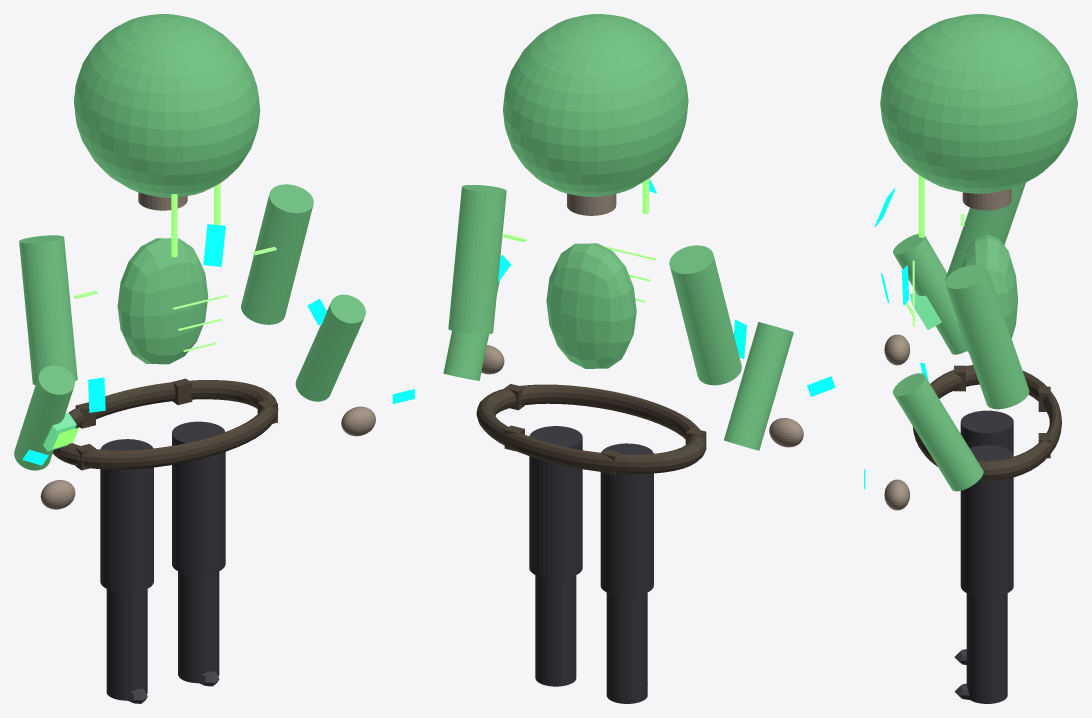
The model's file is prompt_injector.glb.
3 renders of one model, left to right at view 1: azimuth 30°, elevation 25°; view 2: azimuth 150°, elevation 25°; view 3: azimuth 270°, elevation 25°, orthographic.
Parts seen in each view (by area): view 1: Hood, Torso, Belt, UpperLeg_L, UpperLeg_R, UpperArm_L, UpperArm_R, LowerLeg_L, LowerLeg_R, Forearm_R, Forearm_L, Hand_R (+2 smaller); view 2: Hood, Torso, Belt, UpperLeg_R, UpperLeg_L, UpperArm_R, UpperArm_L, Forearm_L, LowerLeg_R, LowerLeg_L, Forearm_R, Neck (+1 smaller); view 3: Hood, UpperLeg_R, UpperArm_R, Forearm_R, LowerLeg_R, Belt, Forearm_L, Torso, UpperArm_L, UpperLeg_L, Neck, Hand_R (+3 smaller).
Part boxes in pixels (x1,y1,x2,y2): Hood: [74, 14, 260, 197]; Torso: [117, 238, 208, 364]; Belt: [52, 380, 278, 469]; UpperLeg_L: [100, 439, 153, 592]; UpperLeg_R: [172, 421, 225, 575]; UpperArm_L: [19, 235, 77, 384]; UpperArm_R: [241, 184, 313, 324]; LowerLeg_L: [106, 589, 147, 700]; LowerLeg_R: [178, 571, 219, 683]; Forearm_R: [295, 294, 365, 401]; Forearm_L: [14, 365, 74, 470]; Hand_R: [341, 406, 375, 436]; Hood: [503, 14, 688, 196]; Torso: [546, 243, 636, 368]; Belt: [476, 384, 706, 473]; UpperLeg_R: [529, 426, 582, 579]; UpperLeg_L: [600, 443, 653, 596]; UpperArm_R: [448, 185, 506, 334]; UpperArm_L: [669, 245, 741, 385]; Forearm_L: [724, 322, 793, 450]; LowerLeg_R: [535, 575, 576, 686]; LowerLeg_L: [606, 592, 647, 703]; Forearm_R: [443, 280, 499, 380]; Neck: [567, 193, 616, 215]; Hood: [880, 14, 1077, 193]; UpperLeg_R: [960, 445, 1013, 597]; UpperArm_R: [945, 264, 1029, 409]; Forearm_R: [893, 373, 983, 491]; LowerLeg_R: [966, 593, 1007, 703]; Belt: [912, 365, 1061, 480]; Forearm_L: [893, 234, 966, 354]; Torso: [958, 234, 1017, 352]; UpperArm_L: [945, 183, 1025, 281]; UpperLeg_L: [960, 410, 1013, 454]; Neck: [962, 188, 1011, 210]; Hand_R: [884, 479, 909, 510].
Size of the model in its own units: 1.07 by 1.78 by 0.5235.
